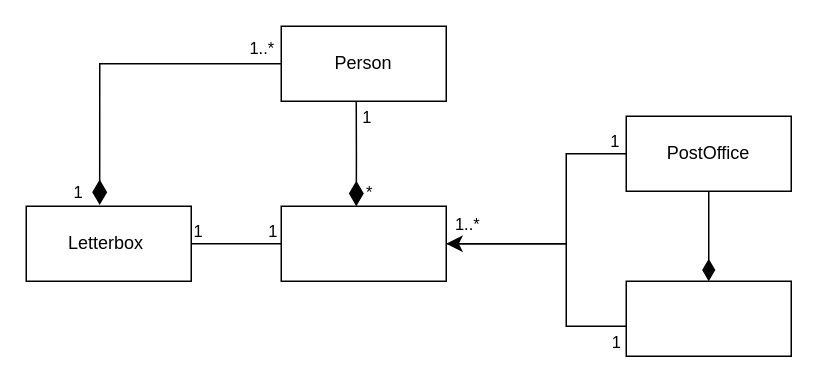
This 818x383 diagram has some shape labels left out. The centre of each missing label's shape, as x and y in pixels:
"Letter" goes at [363,243].
"Postie" goes at [708,318].
